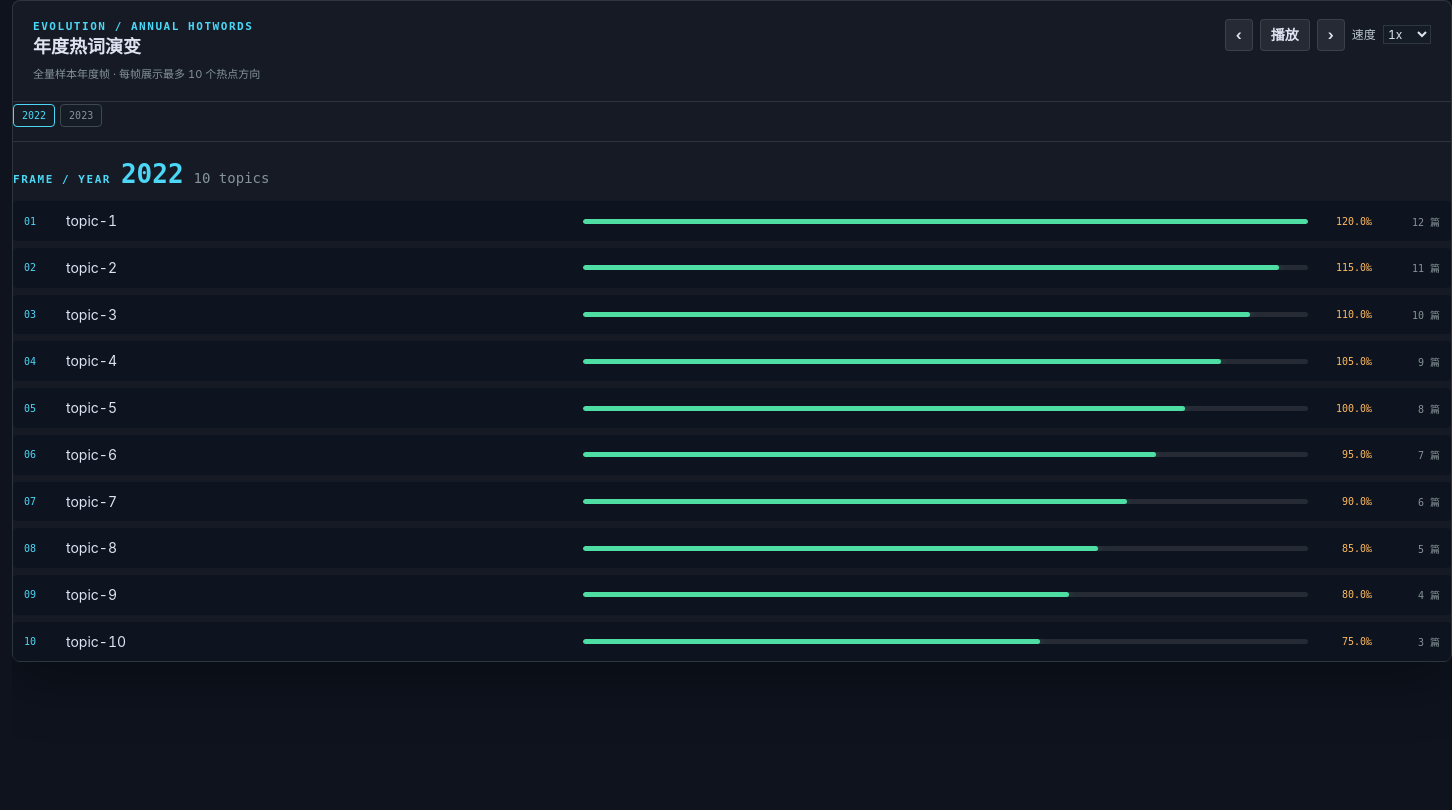
Scenario: EvolutionPanel › renders the current year and at most ten topics from the real payload
Check: the element with class "evolution-year" shows "2022", box [121,159,184,189]
Click the button named "下一年".
click(1331, 35)  # box [1317,19,1345,51]
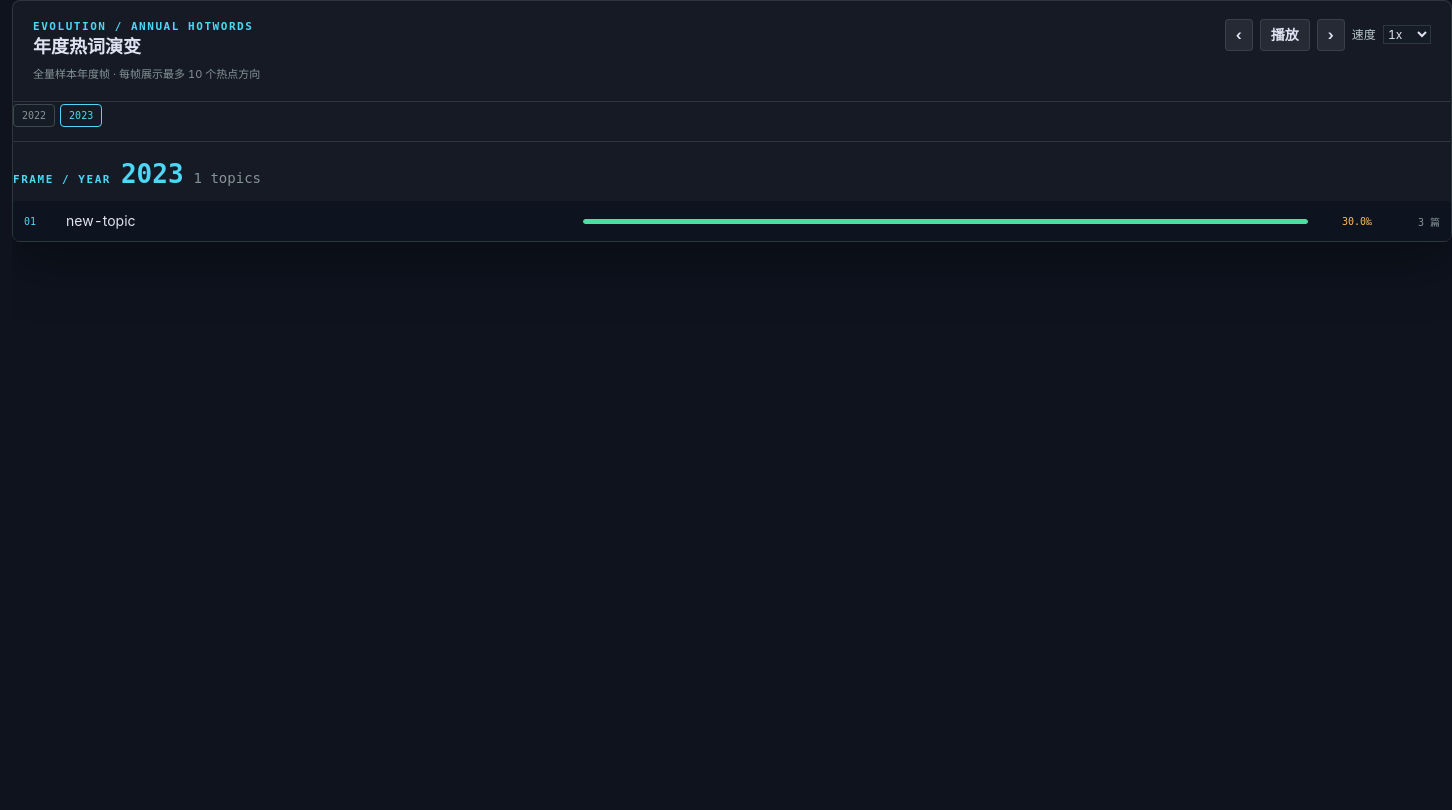
Check: the element with class "evolution-year" shows "2023", box [121,159,184,189]
